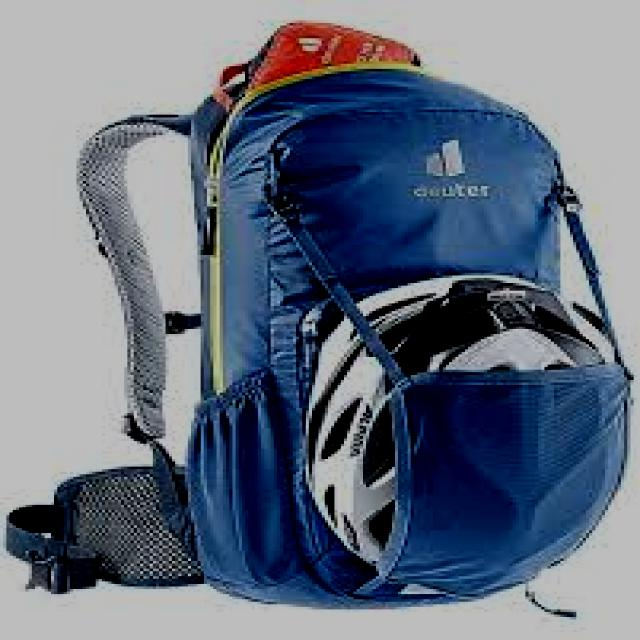backpack: (5, 19, 635, 613)
